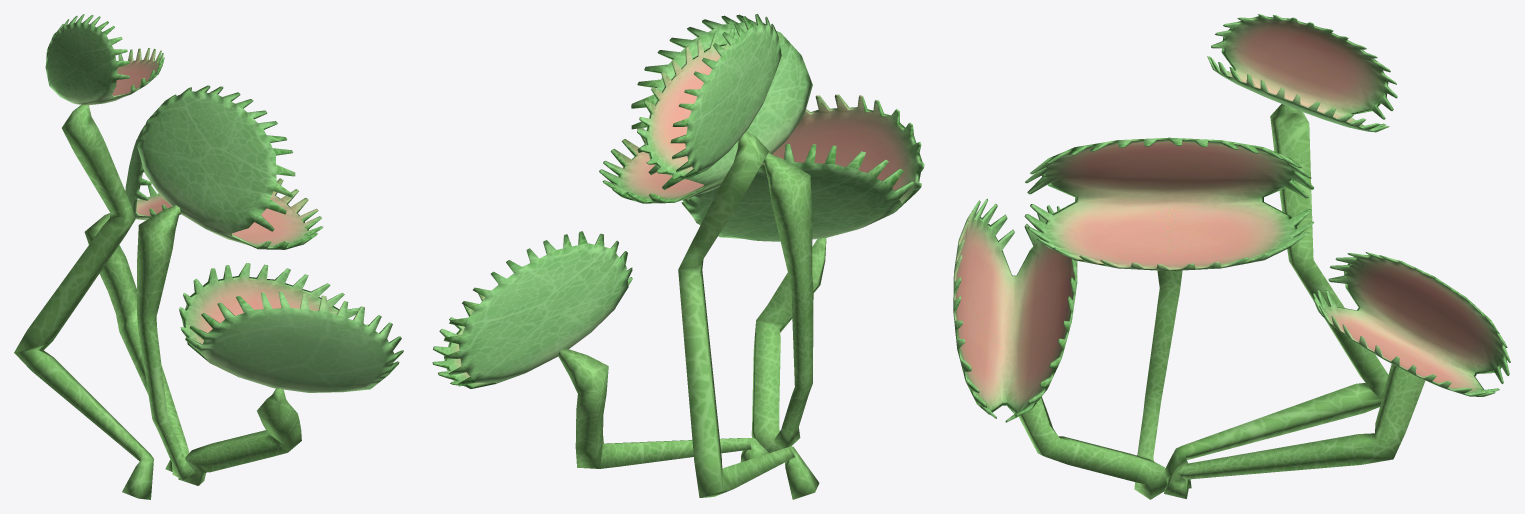
The model's file is CarnivorousPlant.fbx.
The picture shows the model from 3 angles, left to right: view 1: azimuth 30°, elevation 25°; view 2: azimuth 150°, elevation 25°; view 3: azimuth 270°, elevation 25°; orthographic projection. The views are drawn at different scales.
Parts seen in each view (by area): view 1: Cube.011, Cube.009, Plane.001, Cube.012, Plane, Plane.035, Plane.036, Cube.010; view 2: Cube.010, Cube.011, Cube.012, Plane.001, Cube.009, Plane, Plane.036, Plane.035; view 3: Cube.009, Cube.011, Cube.010, Cube.012, Plane.001, Plane.036, Plane.035, Plane.
Part boxes in pixels (box(x1,y1,x2,y2)): Cube.011: box(179, 263, 403, 392); Cube.009: box(137, 85, 322, 249); Plane.001: box(14, 104, 153, 499); Cube.012: box(45, 14, 164, 105); Plane: box(137, 204, 195, 479); Plane.035: box(178, 388, 301, 485); Plane.036: box(84, 213, 188, 471); Cube.010: box(125, 125, 171, 220); Cube.010: box(432, 231, 632, 388); Cube.011: box(681, 94, 924, 241); Cube.012: box(637, 14, 781, 179); Plane.001: box(678, 131, 819, 499); Cube.009: box(599, 14, 812, 203); Plane: box(762, 152, 813, 448); Plane.036: box(558, 348, 768, 468); Plane.035: box(751, 238, 826, 452); Cube.009: box(1024, 137, 1314, 270); Cube.011: box(953, 198, 1077, 422); Cube.010: box(1313, 252, 1510, 396); Cube.012: box(1207, 14, 1397, 132); Plane.001: box(1165, 100, 1388, 488); Plane.036: box(1164, 364, 1425, 498); Plane.035: box(1018, 397, 1166, 499); Plane: box(1137, 270, 1182, 461).
Size of the model in its own units: 237 by 457 by 480.
Materials: 2 (2 with a texture image).
